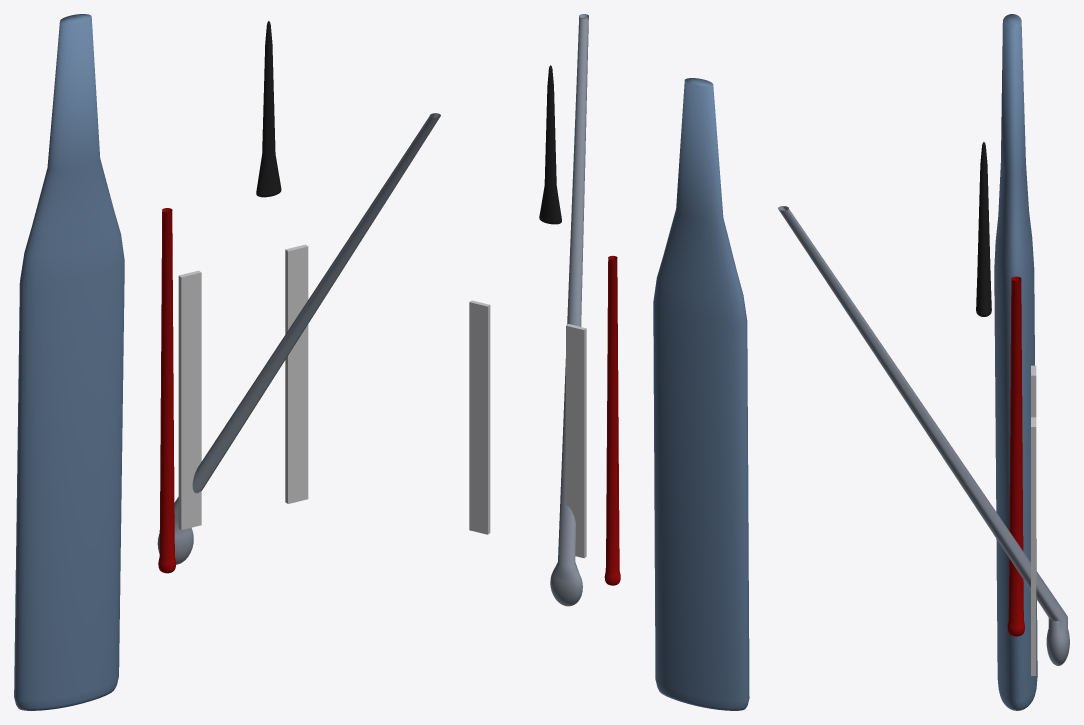
Rendered from tHERMOMETER.obj.
The picture shows the model from 3 angles, left to right: view 1: azimuth 30°, elevation 25°; view 2: azimuth 150°, elevation 25°; view 3: azimuth 270°, elevation 25°; orthographic projection. The views are drawn at different scales.
Parts seen in each view (by area): view 1: Cylinder_Cylinder.001, Sphere_Sphere.003, Plane.000_Plane.002, Plane.001, Sphere.002_Sphere.005, Sphere.001_Sphere.004; view 2: Cylinder_Cylinder.001, Sphere_Sphere.003, Plane.001, Plane.000_Plane.002, Sphere.002_Sphere.005, Sphere.001_Sphere.004; view 3: Cylinder_Cylinder.001, Sphere_Sphere.003, Sphere.002_Sphere.005, Sphere.001_Sphere.004, Plane.001.
Boxes of the visible parts, x1,y1,x2,y2 form: Cylinder_Cylinder.001: [14, 14, 124, 710]; Sphere_Sphere.003: [157, 113, 440, 564]; Plane.000_Plane.002: [178, 270, 201, 529]; Plane.001: [285, 244, 308, 503]; Sphere.002_Sphere.005: [158, 208, 175, 573]; Sphere.001_Sphere.004: [256, 21, 281, 197]; Cylinder_Cylinder.001: [653, 78, 749, 710]; Sphere_Sphere.003: [550, 14, 588, 606]; Plane.001: [469, 300, 490, 534]; Plane.000_Plane.002: [566, 324, 586, 558]; Sphere.002_Sphere.005: [604, 255, 620, 585]; Sphere.001_Sphere.004: [539, 65, 561, 224]; Cylinder_Cylinder.001: [994, 14, 1037, 710]; Sphere_Sphere.003: [778, 206, 1069, 665]; Sphere.002_Sphere.005: [1007, 276, 1024, 636]; Sphere.001_Sphere.004: [976, 142, 991, 316]; Plane.001: [1031, 417, 1036, 675].
Bounding box in the file's own units: 12.02 × 25.57 × 10.08.
